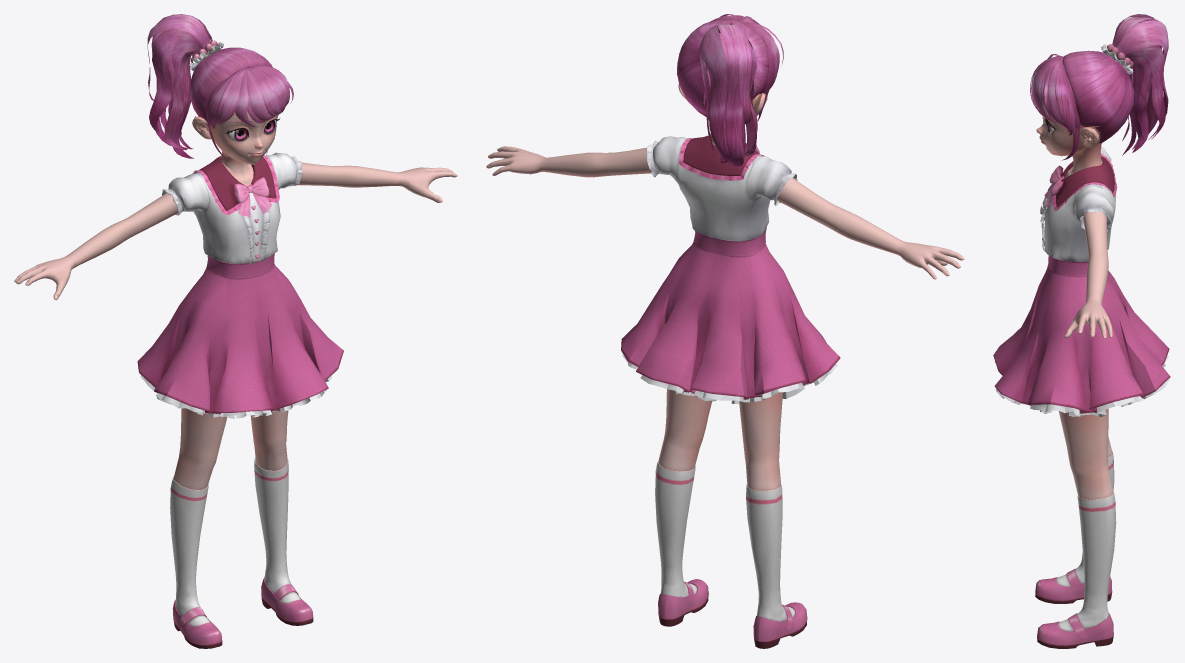
The model's file is catch_ping_ar_-_romi.glb.
The picture shows the model from 3 angles, left to right: view 1: azimuth 30°, elevation 25°; view 2: azimuth 150°, elevation 25°; view 3: azimuth 270°, elevation 25°; orthographic projection. The views are drawn at different scales.
Parts seen in each view (by area): view 1: Object_2; view 2: Object_2; view 3: Object_2.
Part boxes in pixels (left/top/right/bottom): Object_2: left=14, top=14, right=457, bottom=648; Object_2: left=486, top=14, right=964, bottom=648; Object_2: left=993, top=14, right=1170, bottom=648.
Bounding box in the file's own units: 0.9849 × 1.26 × 0.3442.
1 material, 1 textured.
